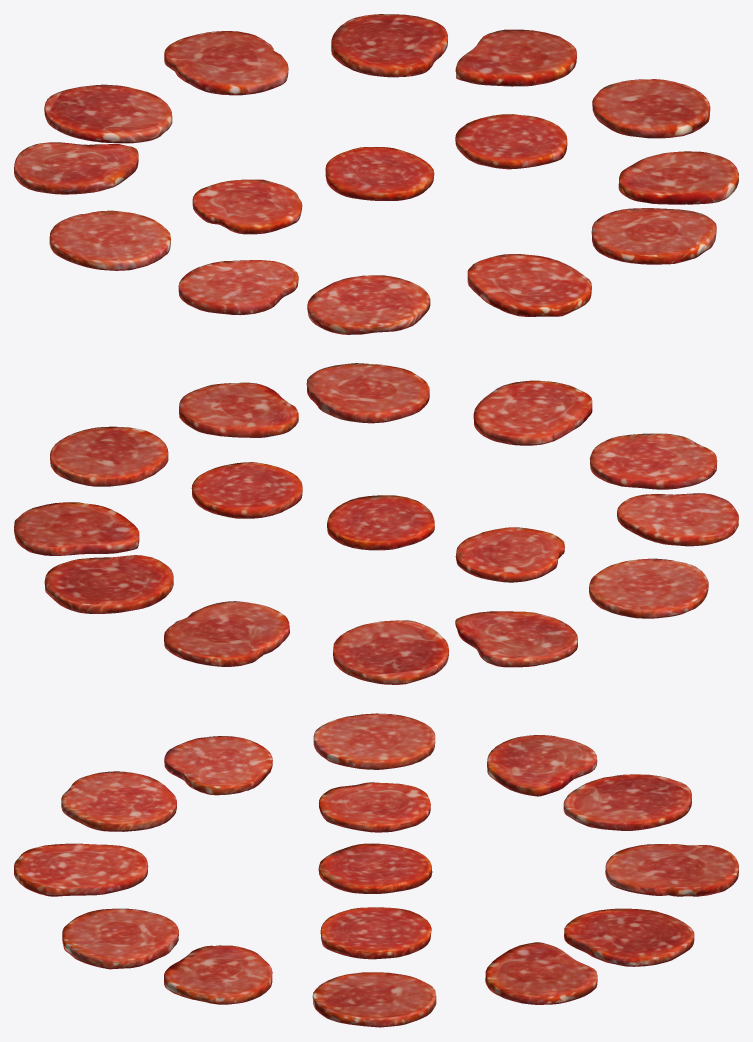
File: Pepperoni_Circle_Veg_0618112133_texture.glb
3 renders of one model, top to bottom at view 1: azimuth 30°, elevation 25°; view 2: azimuth 150°, elevation 25°; view 3: azimuth 270°, elevation 25°, orthographic. The views are drawn at different scales.
Bounding box in the file's own units: 2 × 0.0499 × 2.
1 material, 1 textured.
